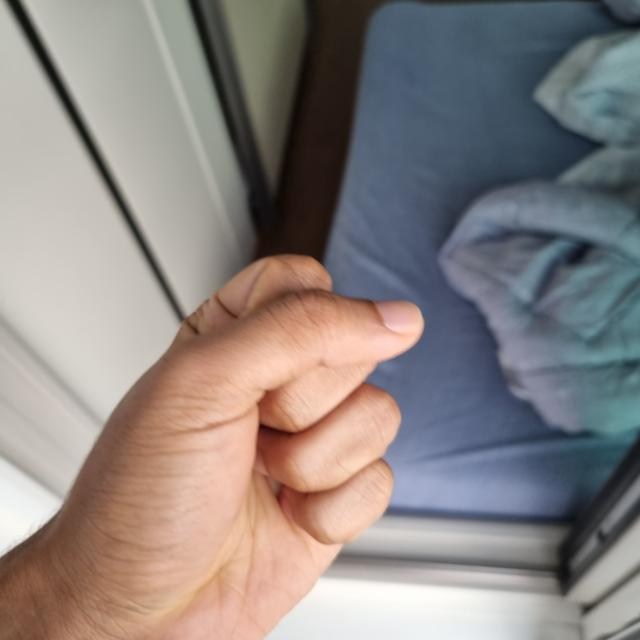Rock: (0, 184, 583, 639)
